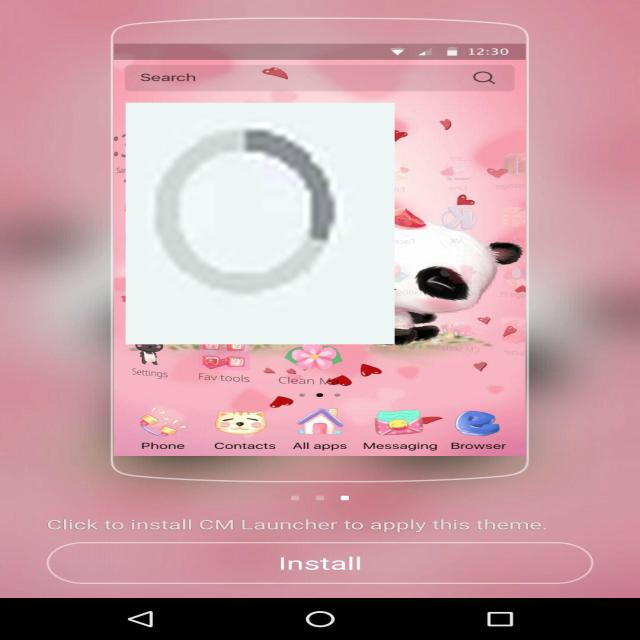misdirection: (126, 103, 394, 344)
